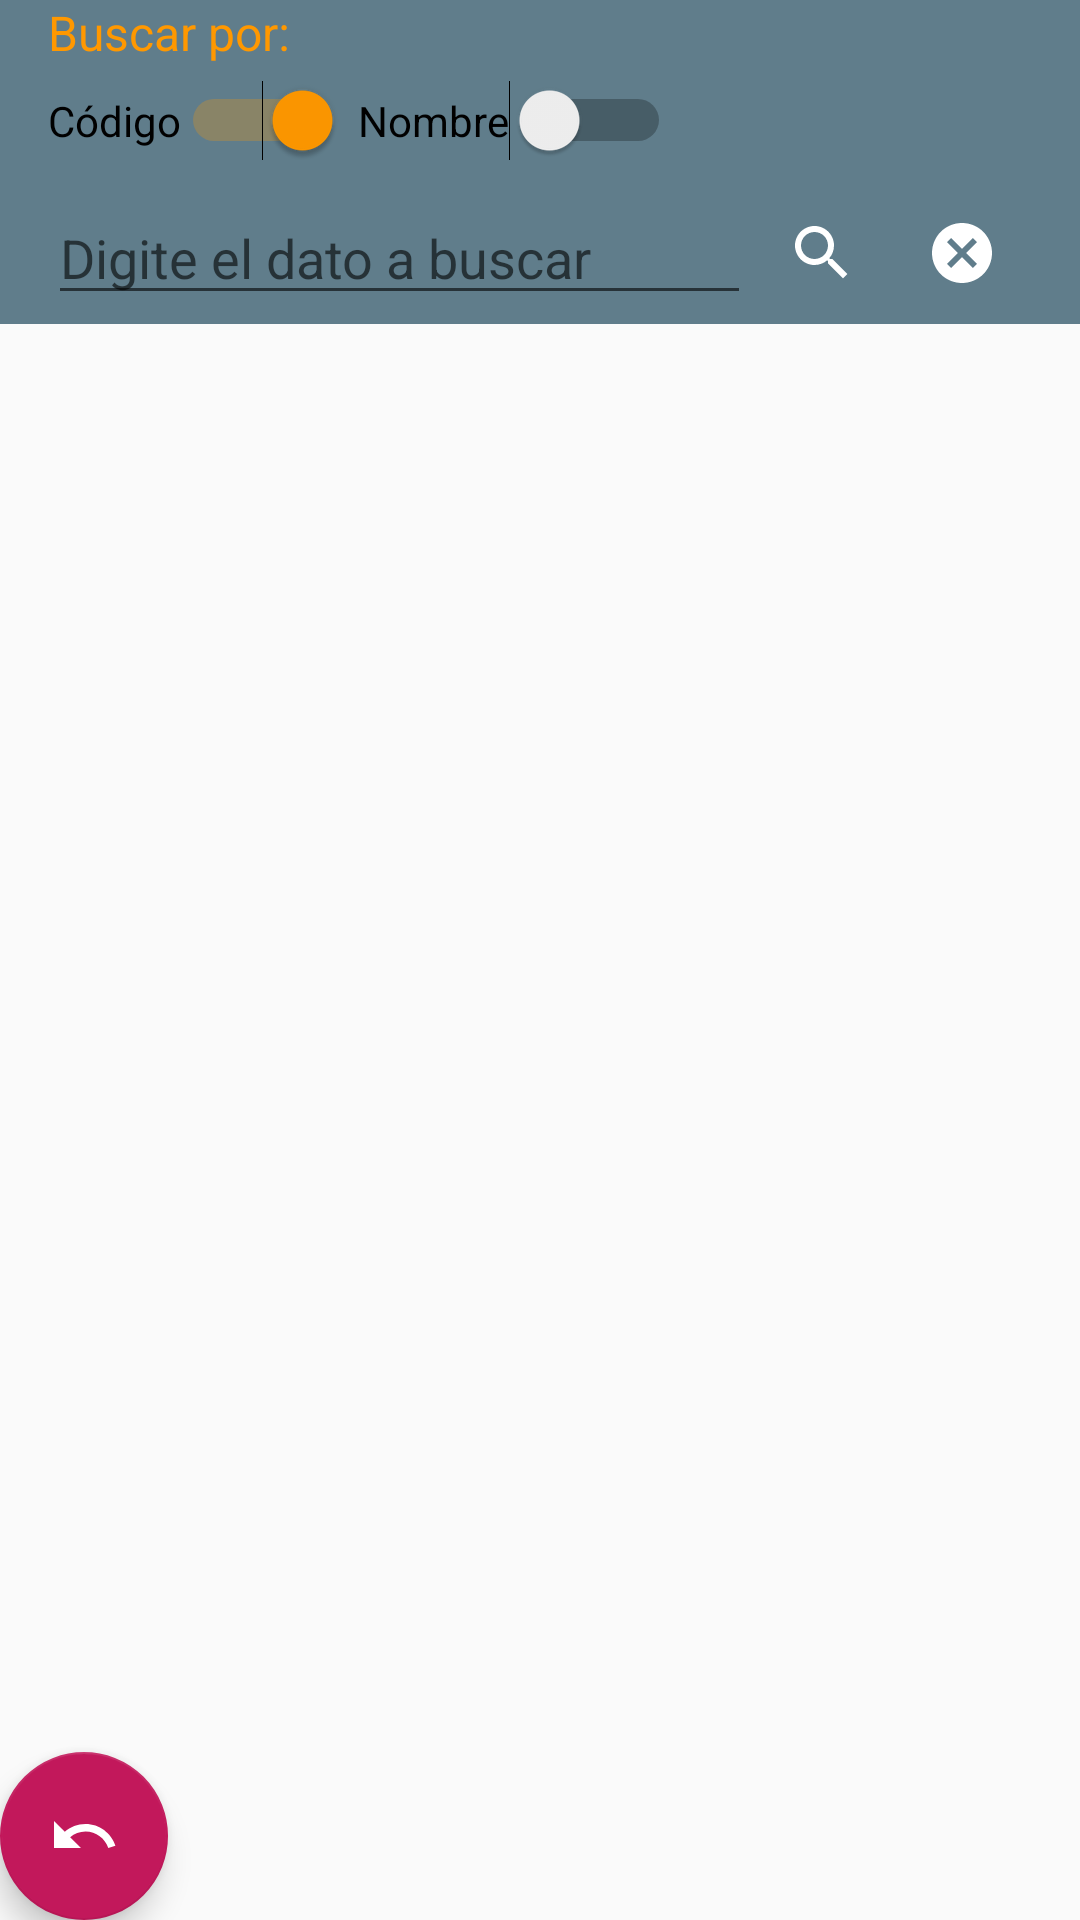

Screen size 1080*1920. Icon name, then its center in pixels as (x=x, y=y):
Buscar Elemento: (x=821, y=252)
cancel: (x=962, y=253)
undo: (x=84, y=1836)
